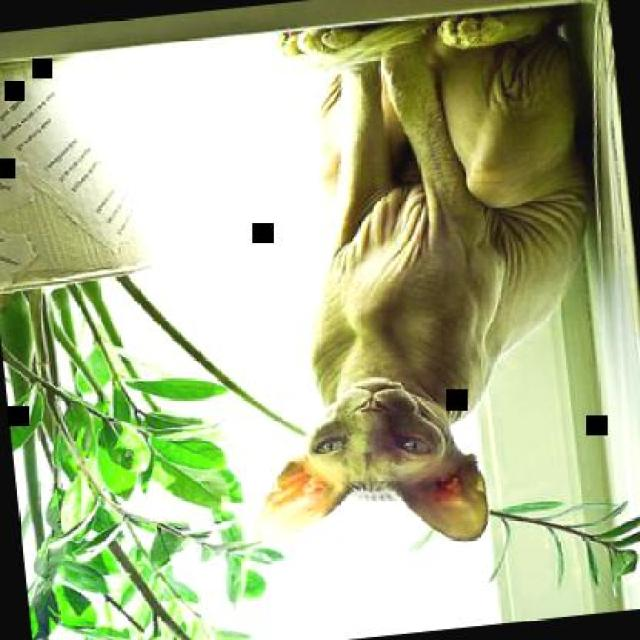cat: (200, 0, 638, 563)
